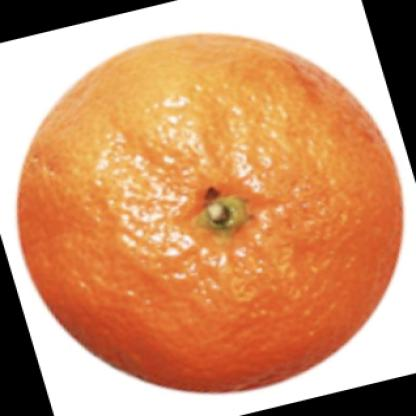fresh: (18, 32, 404, 394)
